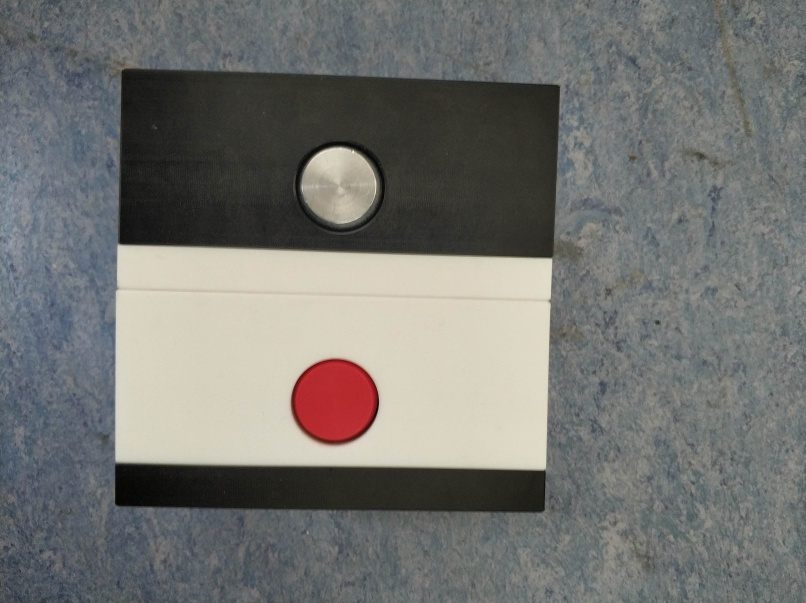black+white+red: (109, 289, 552, 515)
white+black+silver: (116, 64, 563, 303)
